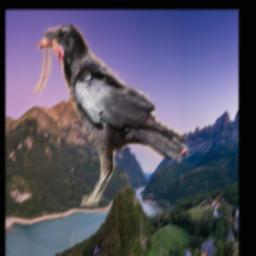Crow: (28, 18, 189, 207)
